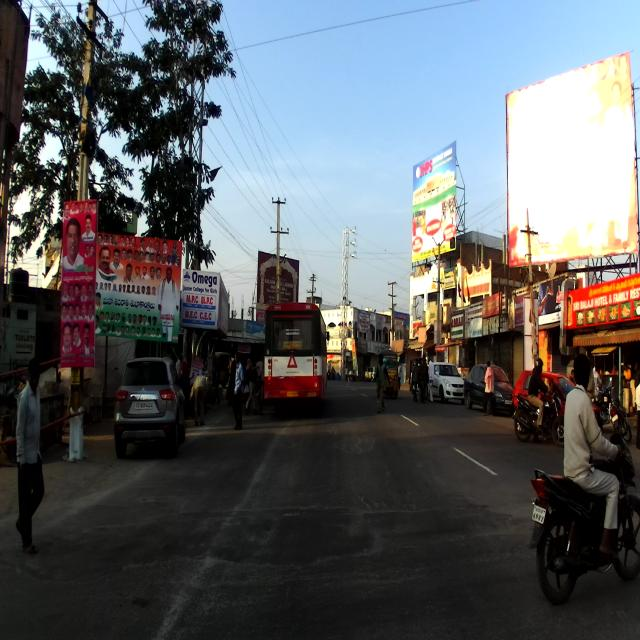bus ahead at: (264, 299, 332, 414)
car ahead at: (114, 352, 187, 451)
motorcycle ahead at: (530, 436, 638, 610)
person ahead at: (12, 360, 50, 564)
